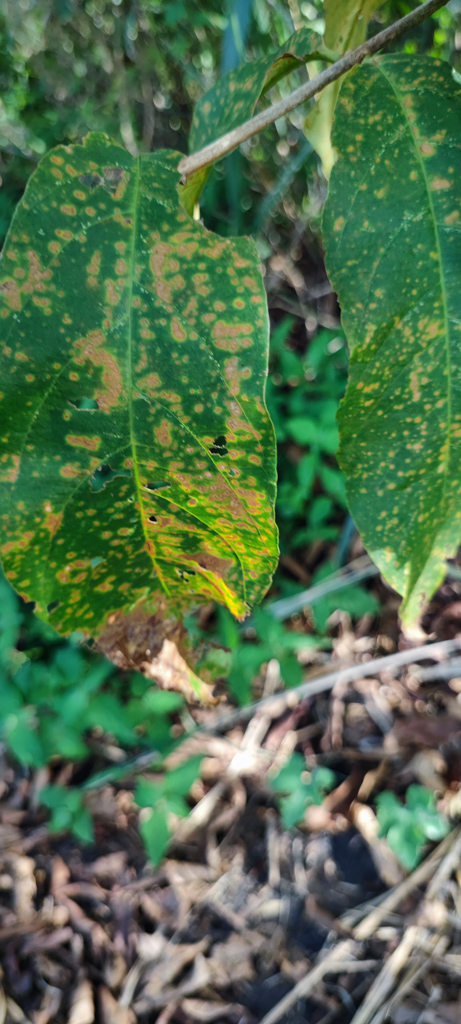frog-eye leafspot: (8, 136, 290, 707), (317, 55, 461, 607)
